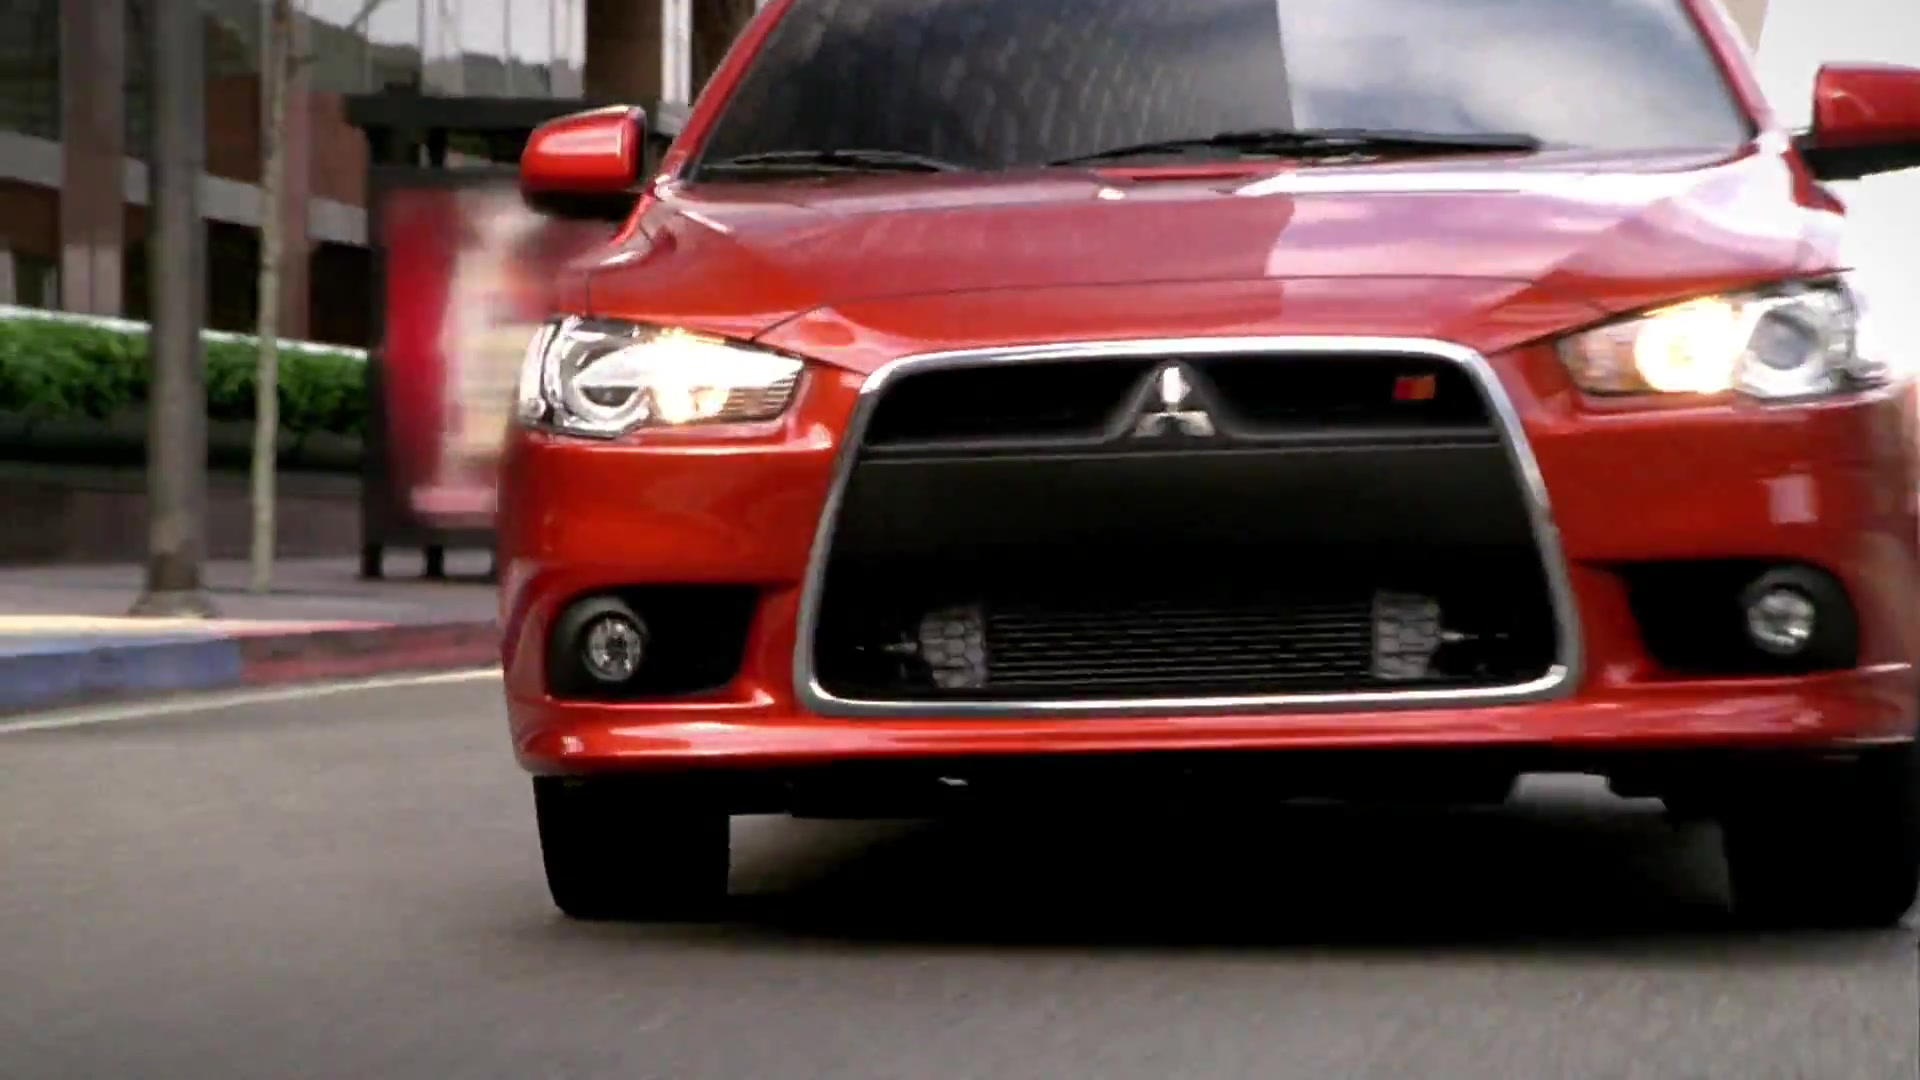car: (500, 1, 1920, 953)
